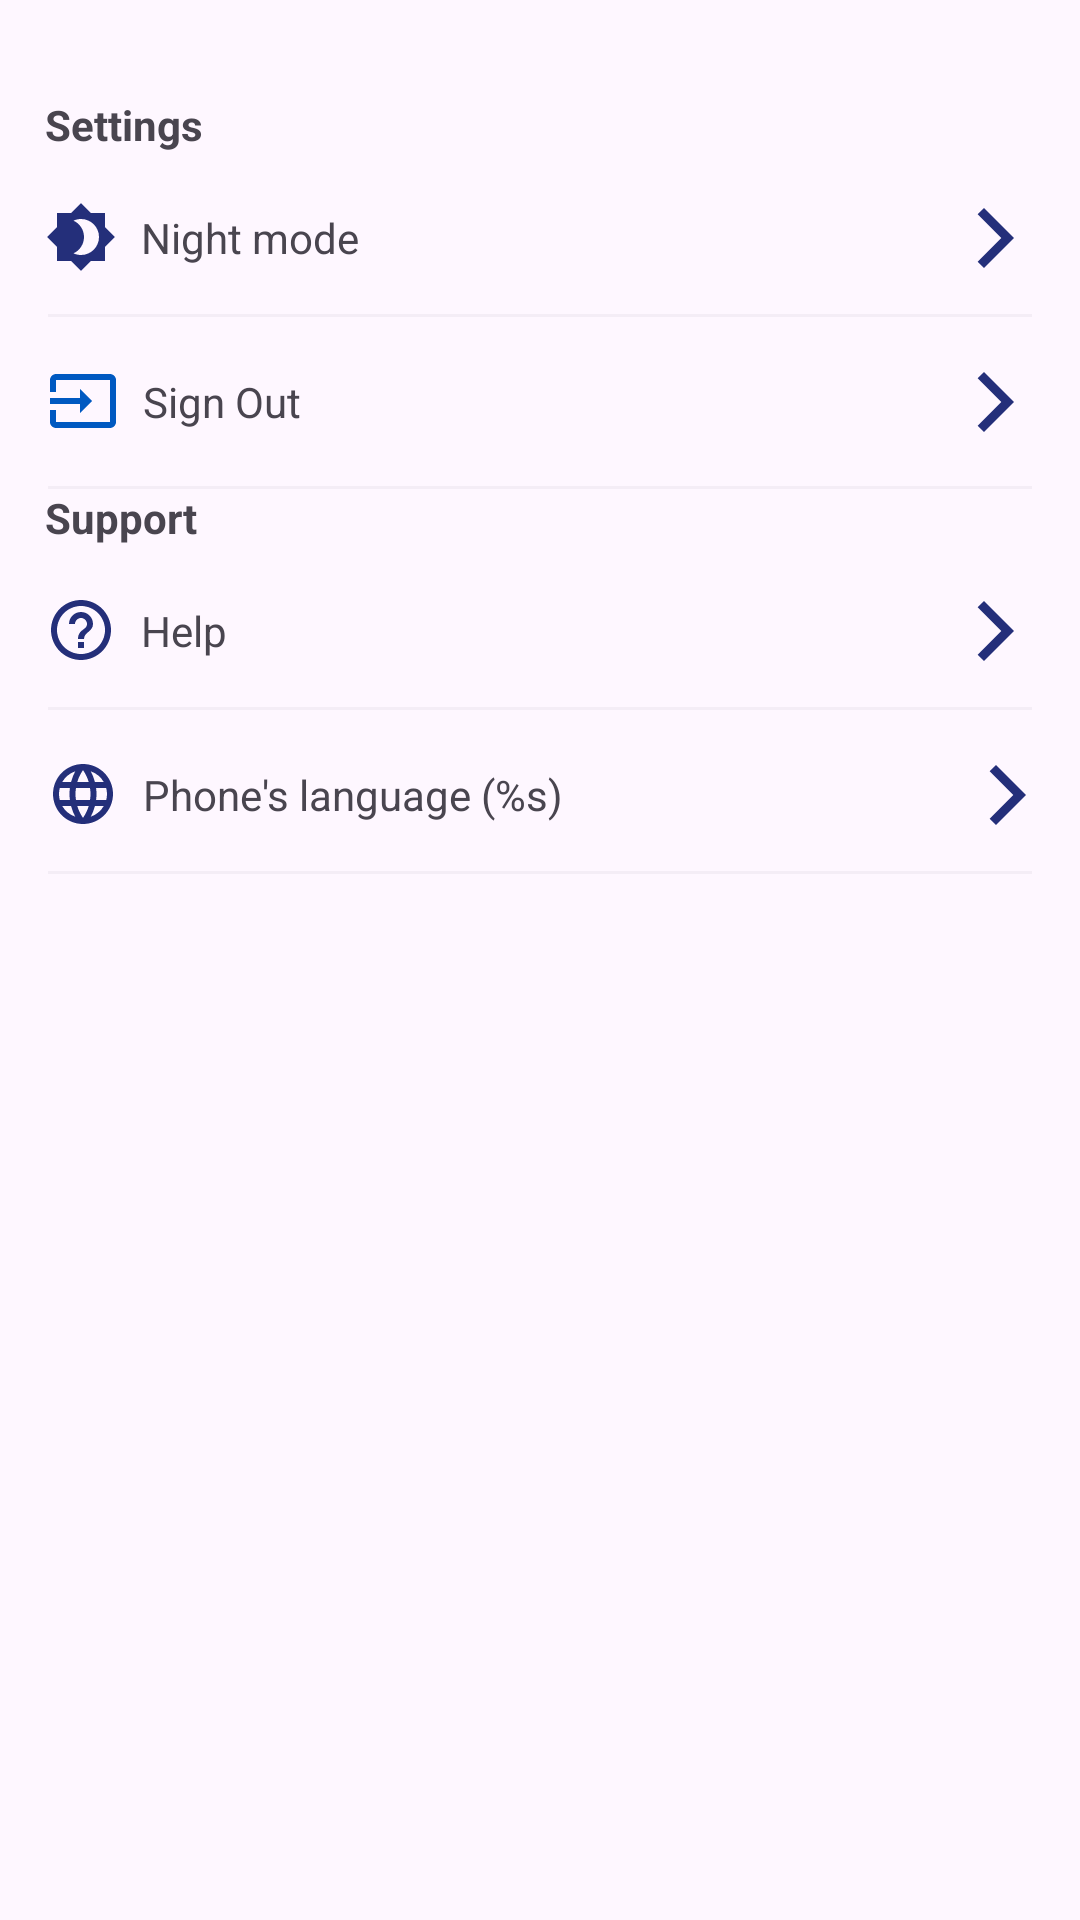

Screen size 1080px×1920px. Icon name, then its center in pixels as (x=x, y=y):
arrow forward: (x=995, y=238), (x=995, y=402), (x=995, y=631), (x=1007, y=795)
brightness: (x=81, y=237)
